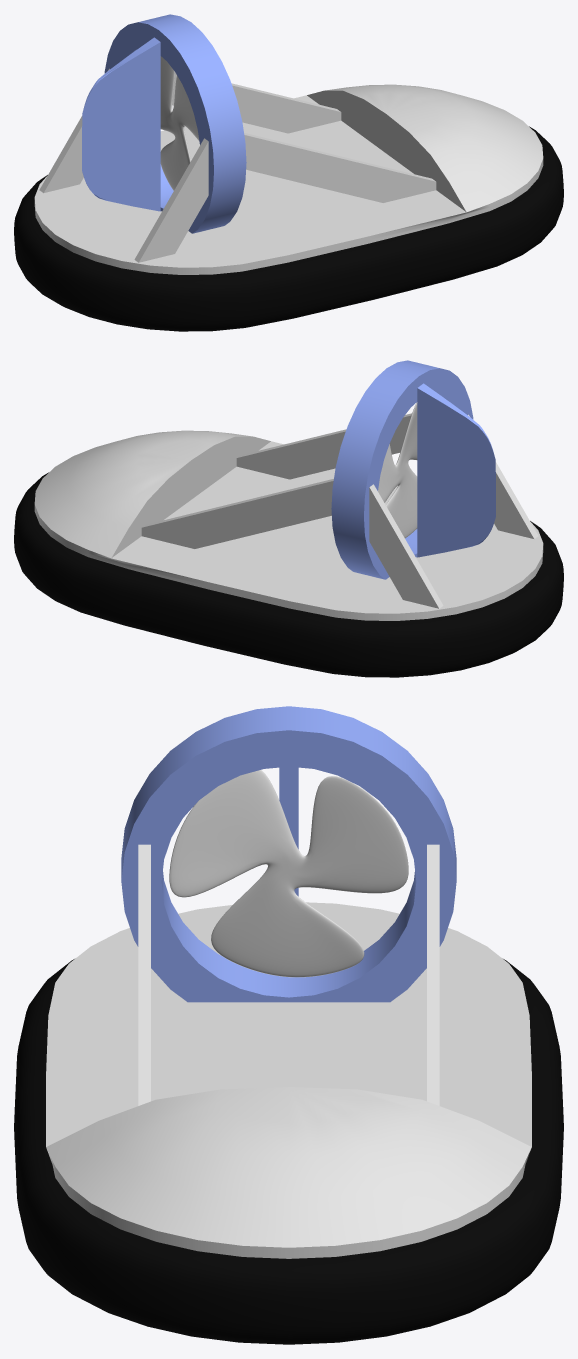
File: Hovercraft.FBX
The picture shows the model from 3 angles, top to bottom: view 1: azimuth 30°, elevation 25°; view 2: azimuth 150°, elevation 25°; view 3: azimuth 270°, elevation 25°; orthographic projection. The views are drawn at different scales.
Parts seen in each view (by area): view 1: Hovercraft, Steering, Propellor; view 2: Hovercraft, Steering, Propellor; view 3: Hovercraft, Propellor, Steering.
Boxes of the visible parts, x1=… form: Hovercraft: x1=14, y1=14, x2=563, y2=331; Steering: x1=82, y1=37, x2=160, y2=211; Propellor: x1=160, y1=56, x2=199, y2=190; Hovercraft: x1=14, y1=360, x2=563, y2=677; Steering: x1=417, y1=383, x2=495, y2=557; Propellor: x1=378, y1=402, x2=417, y2=538; Hovercraft: x1=14, y1=706, x2=563, y2=1344; Propellor: x1=169, y1=770, x2=408, y2=977; Steering: x1=279, y1=766, x2=298, y2=896.
Bounding box in the file's own units: 64.83 × 29.69 × 40.43.
